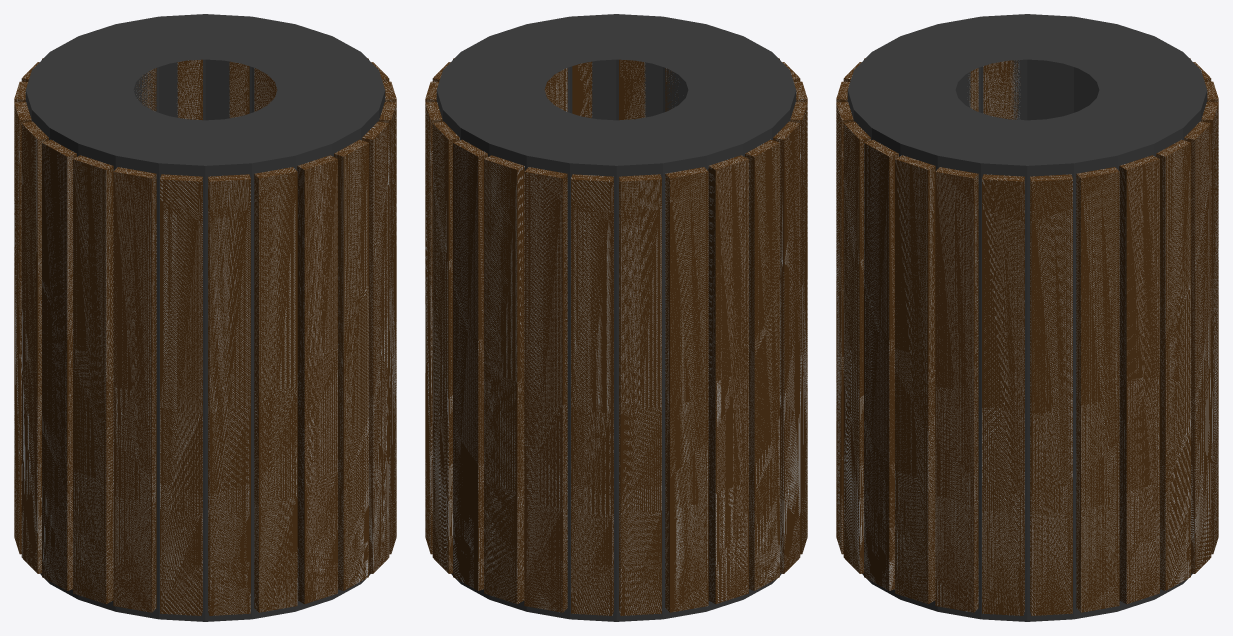
3 views of the same model, side by side, from view 1: azimuth 30°, elevation 25°; view 2: azimuth 150°, elevation 25°; view 3: azimuth 270°, elevation 25° (orthographic).
Parts seen in each view (by area): view 1: mesh25.002_mesh25-geometry, mesh15.002_mesh15-geometry, mesh6.002_mesh6-geometry, mesh22.002_mesh22-geometry, mesh16.002_mesh16-geometry, mesh17.002_mesh17-geometry, mesh5.002_mesh5-geometry, mesh21.002_mesh21-geometry, mesh4.002_mesh4-geometry, mesh14.002_mesh14-geometry, mesh11.002_mesh11-geometry, mesh7.002_mesh7-geometry (+5 smaller); view 2: mesh25.002_mesh25-geometry, mesh24.002_mesh24-geometry, mesh23.002_mesh23-geometry, mesh9.002_mesh9-geometry, mesh8.002_mesh8-geometry, mesh12.002_mesh12-geometry, mesh7.002_mesh7-geometry, mesh14.002_mesh14-geometry, mesh3.002_mesh3-geometry, mesh21.002_mesh21-geometry, mesh2.002_mesh2-geometry, mesh19.002_mesh19-geometry (+4 smaller); view 3: mesh25.002_mesh25-geometry, mesh18.002_mesh18-geometry, mesh10.002_mesh10-geometry, mesh20.002_mesh20-geometry, mesh13.002_mesh13-geometry, mesh19.002_mesh19-geometry, mesh1.002_mesh1-geometry, mesh11.002_mesh11-geometry, mesh2.002_mesh2-geometry, mesh4.002_mesh4-geometry, mesh3.002_mesh3-geometry, mesh17.002_mesh17-geometry (+2 smaller).
Part boxes in pixels (x1,y1,x2,y2): mesh25.002_mesh25-geometry: [25, 14, 385, 621]; mesh15.002_mesh15-geometry: [113, 167, 156, 612]; mesh6.002_mesh6-geometry: [254, 167, 297, 612]; mesh22.002_mesh22-geometry: [208, 174, 250, 615]; mesh16.002_mesh16-geometry: [160, 174, 202, 615]; mesh17.002_mesh17-geometry: [297, 155, 337, 604]; mesh5.002_mesh5-geometry: [73, 155, 113, 604]; mesh21.002_mesh21-geometry: [42, 139, 76, 590]; mesh4.002_mesh4-geometry: [334, 139, 368, 590]; mesh14.002_mesh14-geometry: [21, 121, 48, 573]; mesh11.002_mesh11-geometry: [362, 121, 389, 573]; mesh7.002_mesh7-geometry: [14, 102, 31, 554]; mesh25.002_mesh25-geometry: [436, 14, 796, 621]; mesh24.002_mesh24-geometry: [665, 167, 708, 612]; mesh23.002_mesh23-geometry: [524, 167, 567, 612]; mesh9.002_mesh9-geometry: [619, 174, 661, 615]; mesh8.002_mesh8-geometry: [571, 174, 613, 615]; mesh12.002_mesh12-geometry: [484, 155, 524, 604]; mesh7.002_mesh7-geometry: [708, 155, 748, 604]; mesh14.002_mesh14-geometry: [745, 139, 779, 590]; mesh3.002_mesh3-geometry: [453, 139, 487, 590]; mesh21.002_mesh21-geometry: [773, 121, 800, 573]; mesh2.002_mesh2-geometry: [432, 121, 459, 573]; mesh19.002_mesh19-geometry: [425, 102, 442, 554]; mesh25.002_mesh25-geometry: [847, 14, 1207, 621]; mesh18.002_mesh18-geometry: [1076, 167, 1119, 612]; mesh10.002_mesh10-geometry: [935, 167, 978, 612]; mesh20.002_mesh20-geometry: [982, 174, 1024, 615]; mesh13.002_mesh13-geometry: [1030, 174, 1072, 615]; mesh19.002_mesh19-geometry: [1119, 155, 1159, 604]; mesh1.002_mesh1-geometry: [895, 155, 935, 604]; mesh11.002_mesh11-geometry: [864, 139, 898, 590]; mesh2.002_mesh2-geometry: [1156, 139, 1190, 590]; mesh4.002_mesh4-geometry: [843, 121, 870, 573]; mesh3.002_mesh3-geometry: [1184, 121, 1211, 573]; mesh17.002_mesh17-geometry: [836, 102, 853, 554].
Size of the model in its own units: 0.5178 by 0.6811 by 0.5178.
